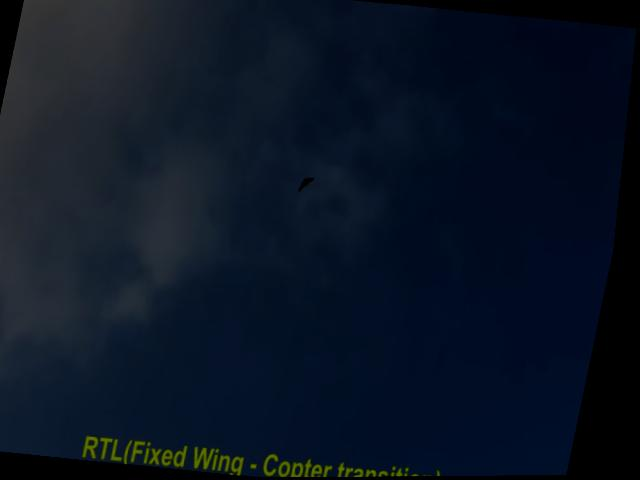plane: (303, 177, 318, 193)
